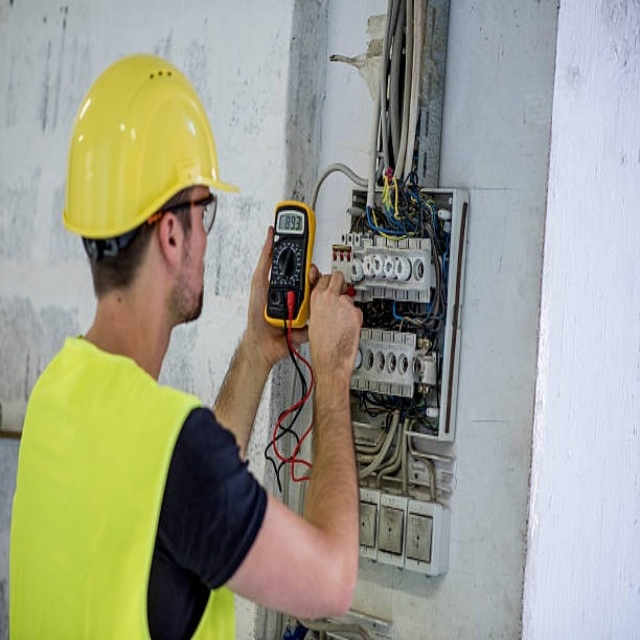Gafas: (150, 190, 222, 240)
Sin_guantes: (304, 262, 365, 382)
Sin_mascara: (173, 245, 211, 320)
